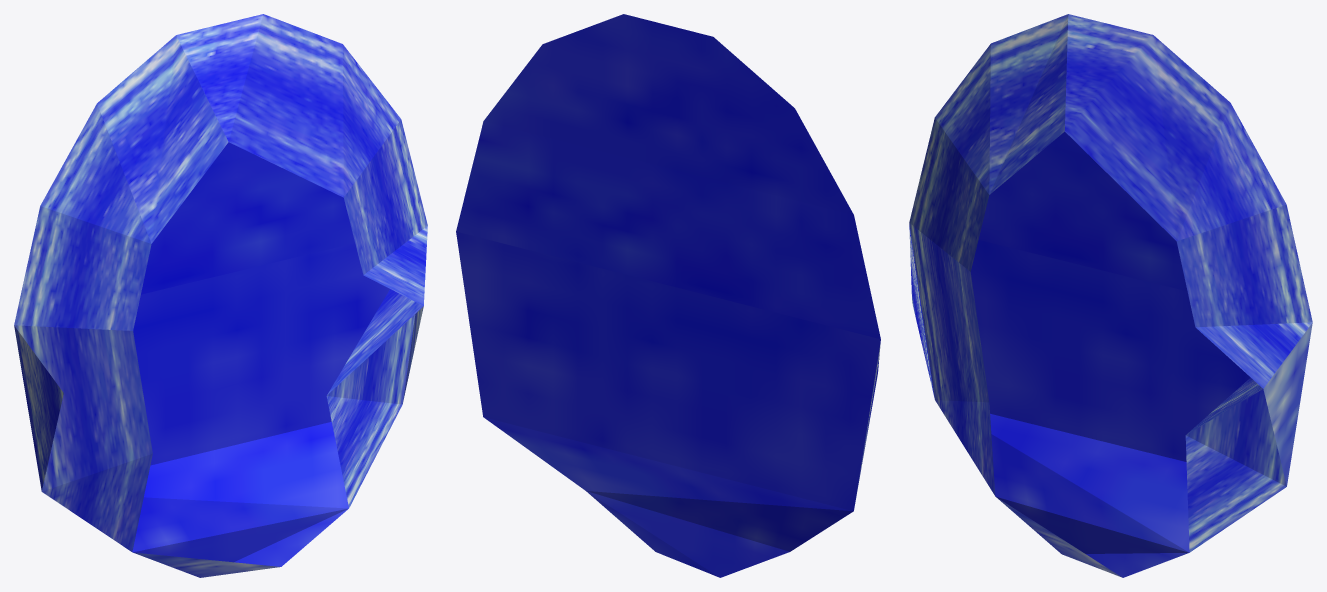
The picture shows the model from 3 angles, left to right: view 1: azimuth 30°, elevation 25°; view 2: azimuth 150°, elevation 25°; view 3: azimuth 330°, elevation 25°; orthographic projection. The views are drawn at different scales.
Size of the model in its own units: 0.0566 by 0.0702 by 0.0071.
1 material, 1 textured.
